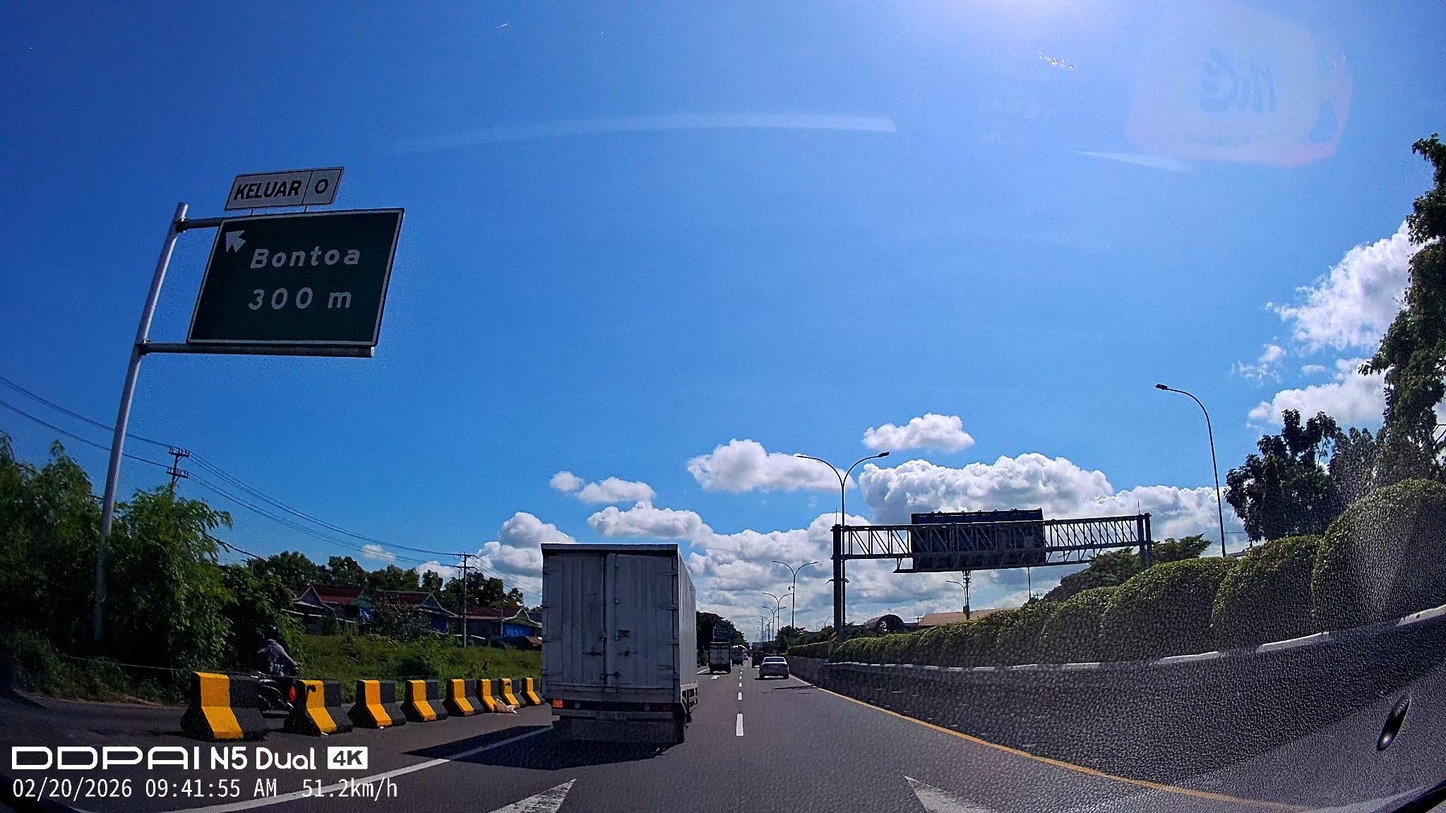rambu_teks: (209, 207, 401, 355)
